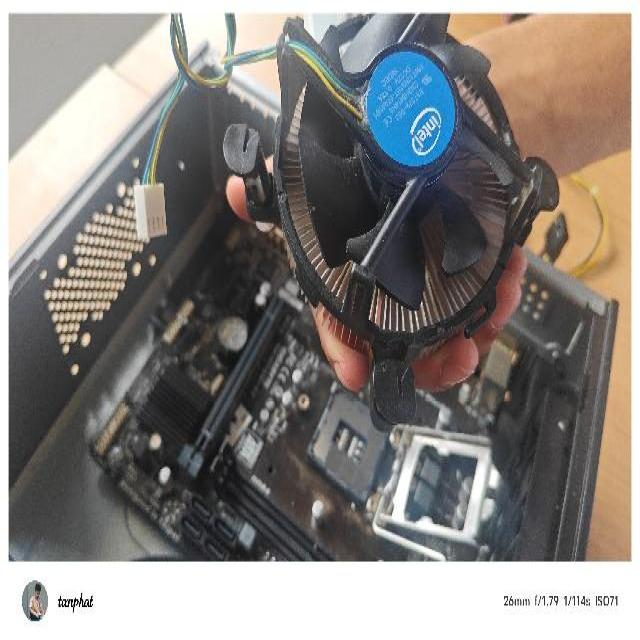CPU_Fan: (211, 9, 561, 434)
